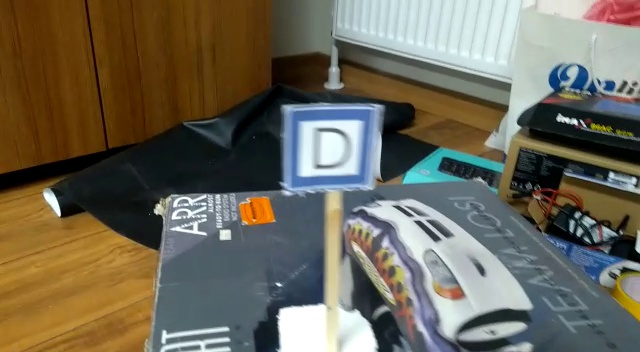durak: (286, 107, 382, 186)
